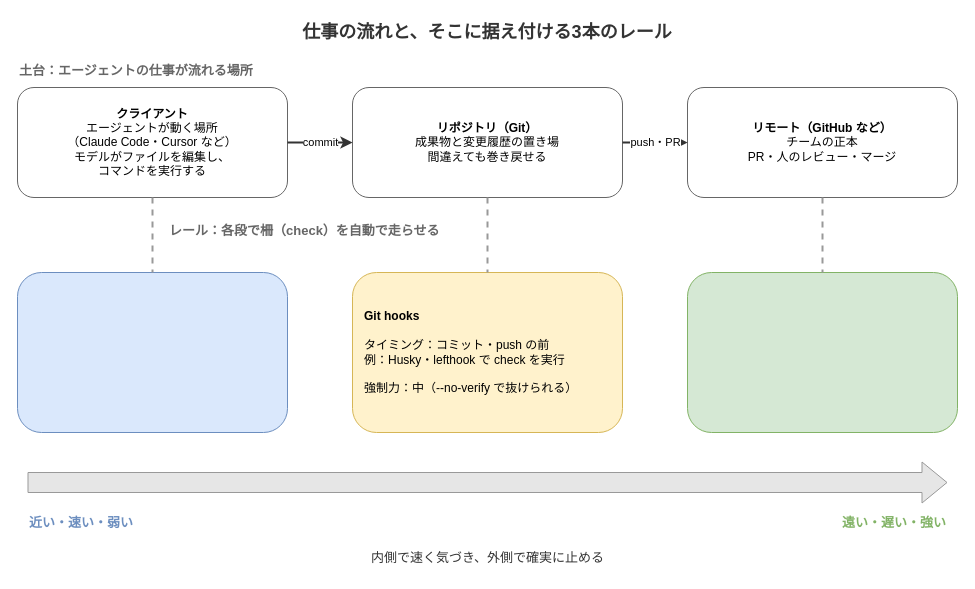
The diagram is 975 pixels wide and 589 high, and some of its shapes have lost their labels. The centre of each missing label's shape, as x and y in pixels:
CI＋ブランチ保護 タイミング：PR の作成・更新時 例：同じ check をパイプラインで実行 失敗したらマージできない 強制力：最大（抜けられない）: the point at 822,352
エージェントの Hooks タイミング：編集・実行の瞬間 例：編集後に lint／rm を事前に止める 強制力：弱（設定で無効化できる）: the point at 152,352
